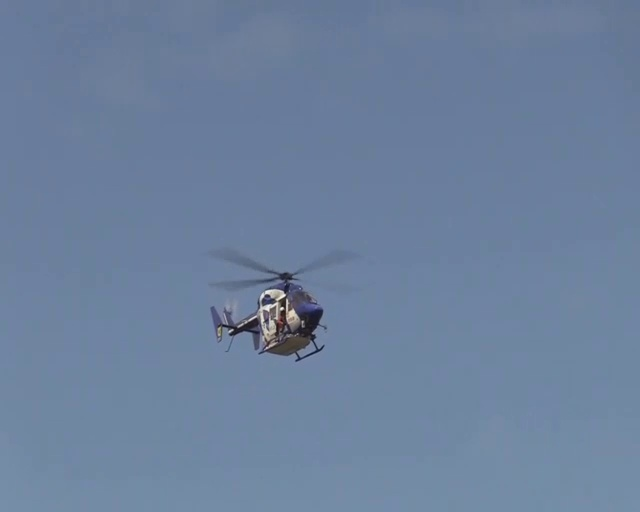HELICOPTER: (204, 244, 372, 362)
